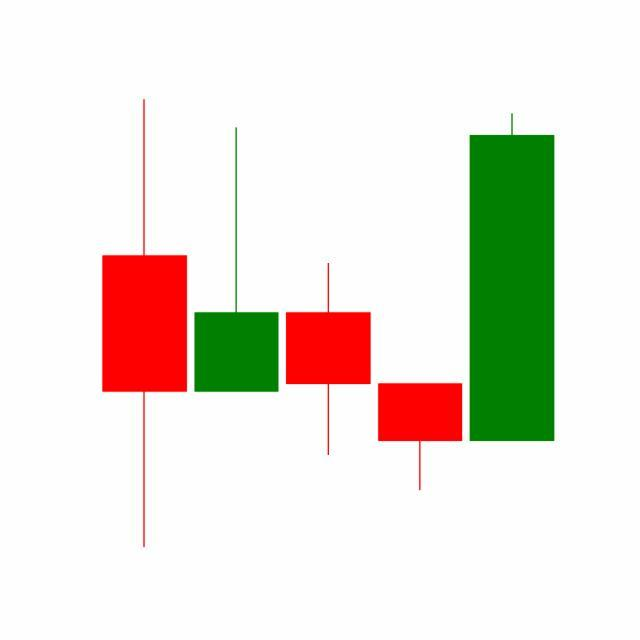Marubozu: (466, 110, 559, 444)
